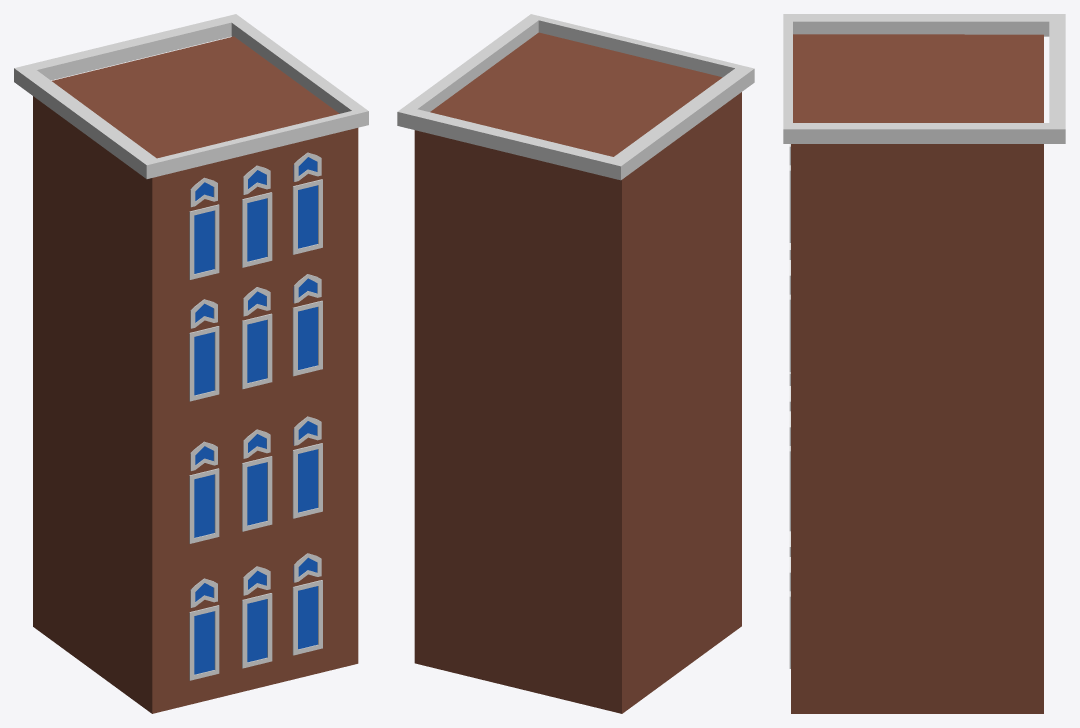
File: House 5.fbx
3 views of the same model, side by side, from view 1: azimuth 30°, elevation 25°; view 2: azimuth 150°, elevation 25°; view 3: azimuth 270°, elevation 25° (orthographic). The views are drawn at different scales.
Visible parts, largest first — view 1: House 5, House 5 Details, House 5 Windows; view 2: House 5, House 5 Details; view 3: House 5, House 5 Details.
Part boxes in pixels (x1,y1,x2,y2): House 5: (33,36,358,713); House 5 Details: (14,14,368,680); House 5 Windows: (191,157,317,674); House 5: (414,32,741,713); House 5 Details: (397,14,754,180); House 5: (791,34,1043,713); House 5 Details: (783,14,1065,668).
Size of the model in its own units: 215 by 513 by 223.
